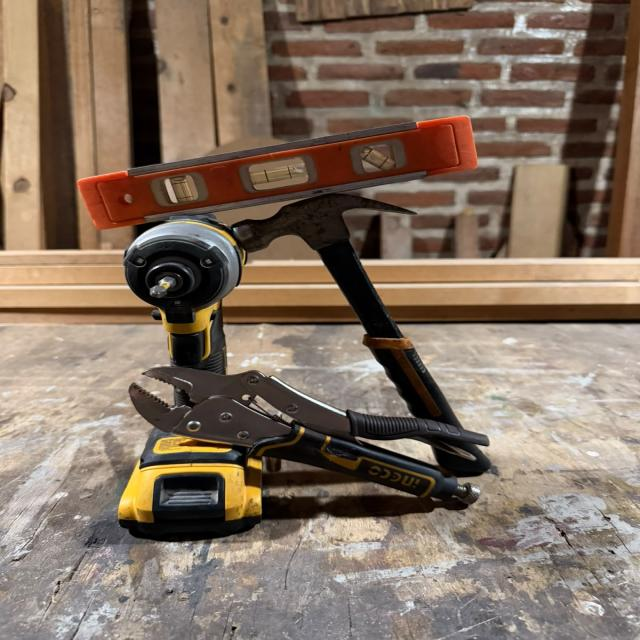Martillo: (203, 178, 531, 485)
Nivel: (66, 108, 487, 239)
PinzasPresion: (104, 348, 518, 526)
Rotomartillo: (98, 204, 298, 548)
